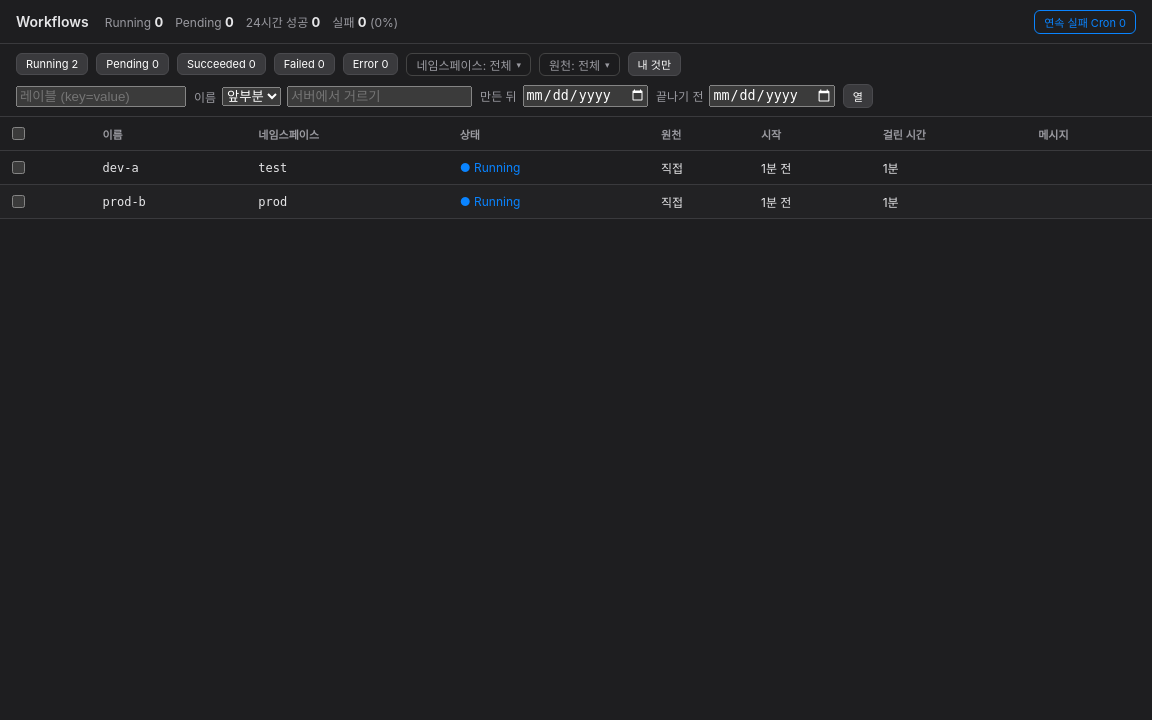
여러 개를 골라 일괄 동작하고 결과 표를 보이며, prod가 하나라도 있으면 선택 개수를 쳐야 한다
Click the checkbox named "dev-a 선택".
click(18, 168)  # box [12,161,25,174]
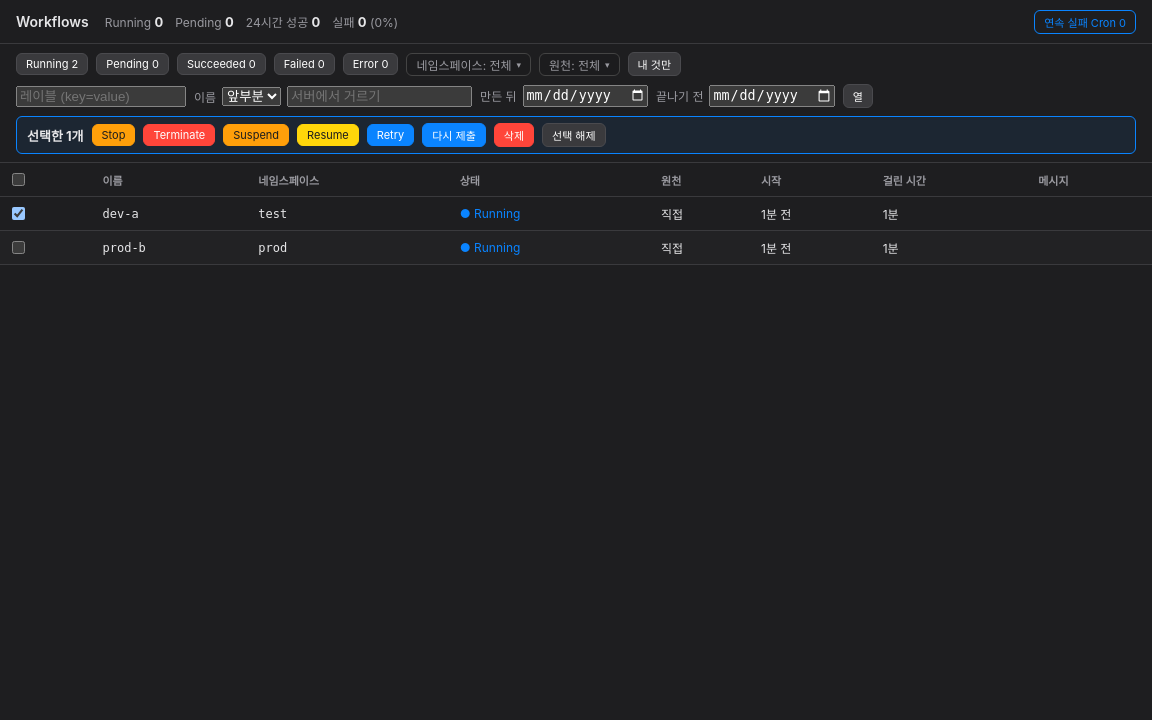
Click the checkbox named "prod-b 선택".
click(18, 248)  # box [12,241,25,254]
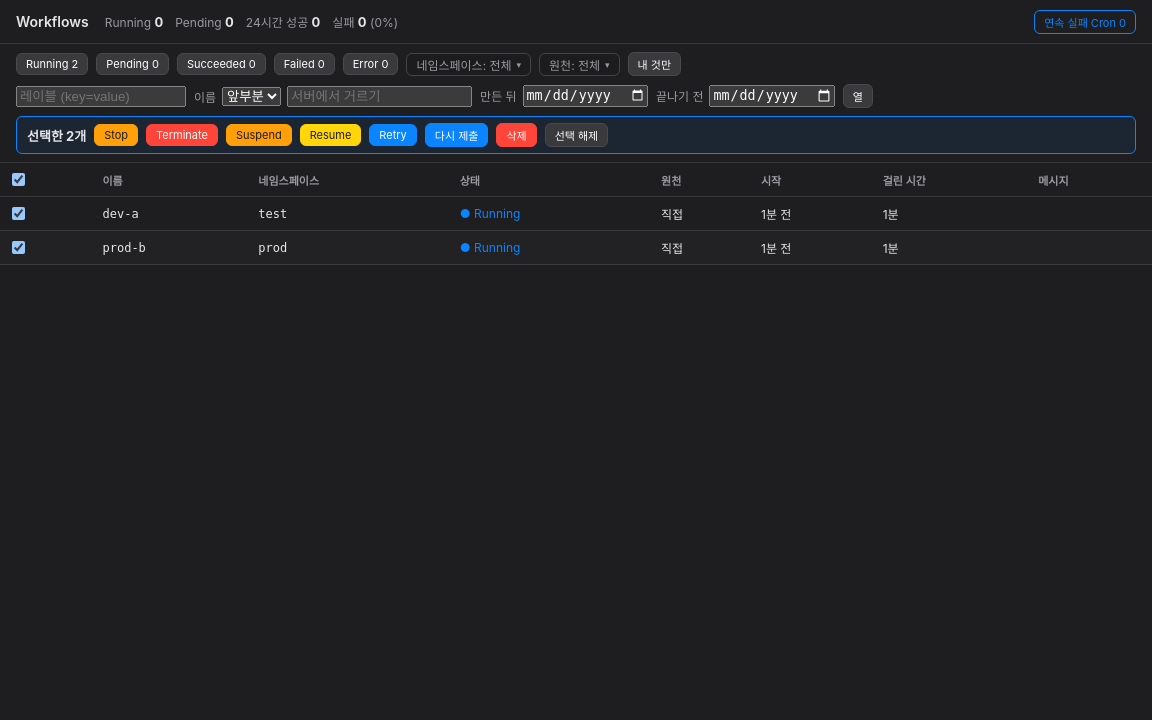
Click the button "Stop".
click(116, 135)  # box [94,124,138,146]
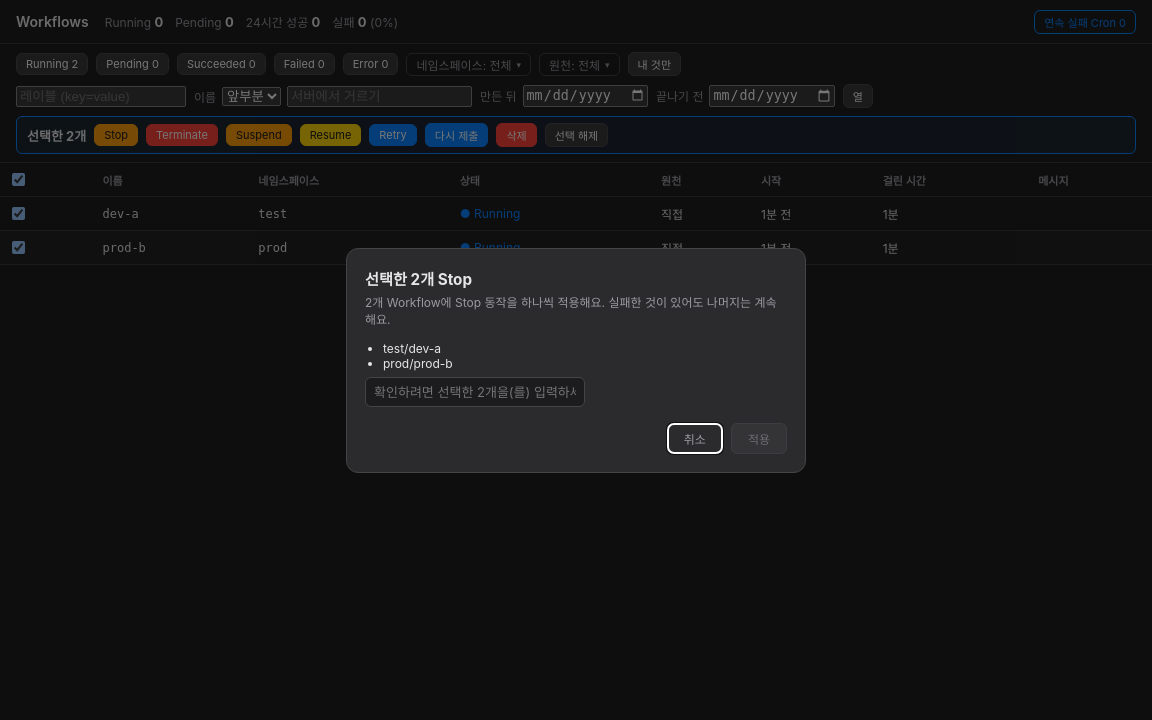
Result: the button "적용" is disabled at [731,422,787,454]
Type "선택한 2개" into the field labelled "확인하려면".
click(475, 392); type("선택한 2개")  # box [365,376,585,406]
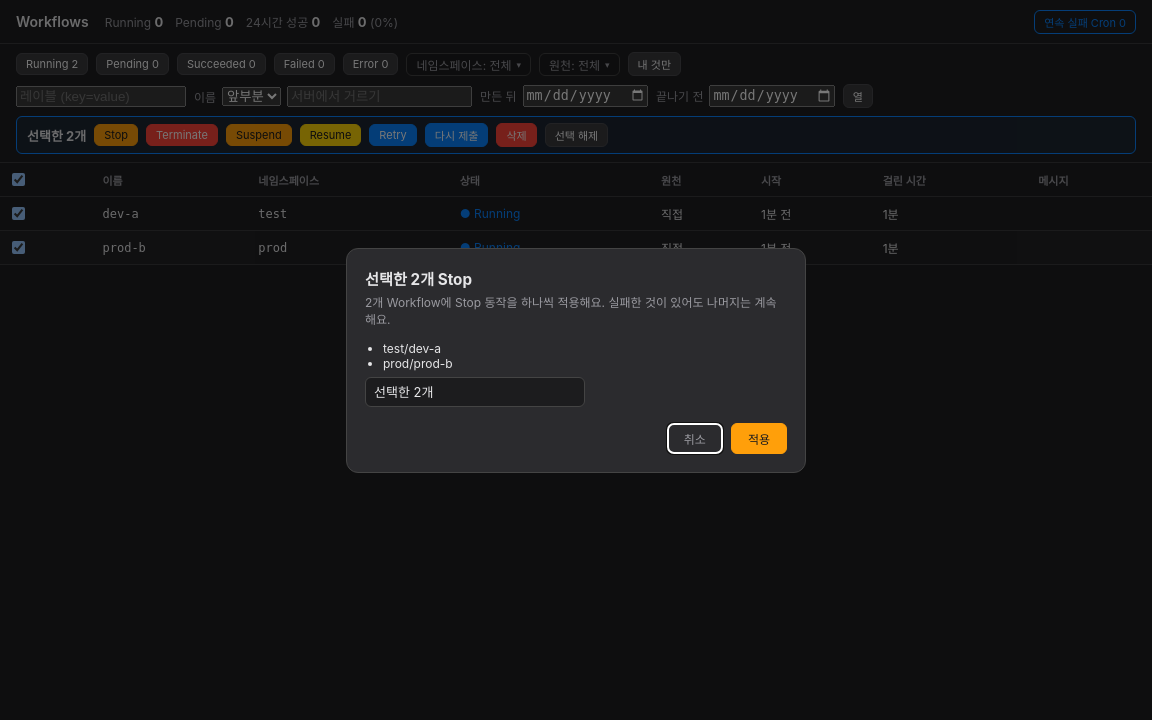
Click the button "적용".
click(759, 438)  # box [731,422,787,454]
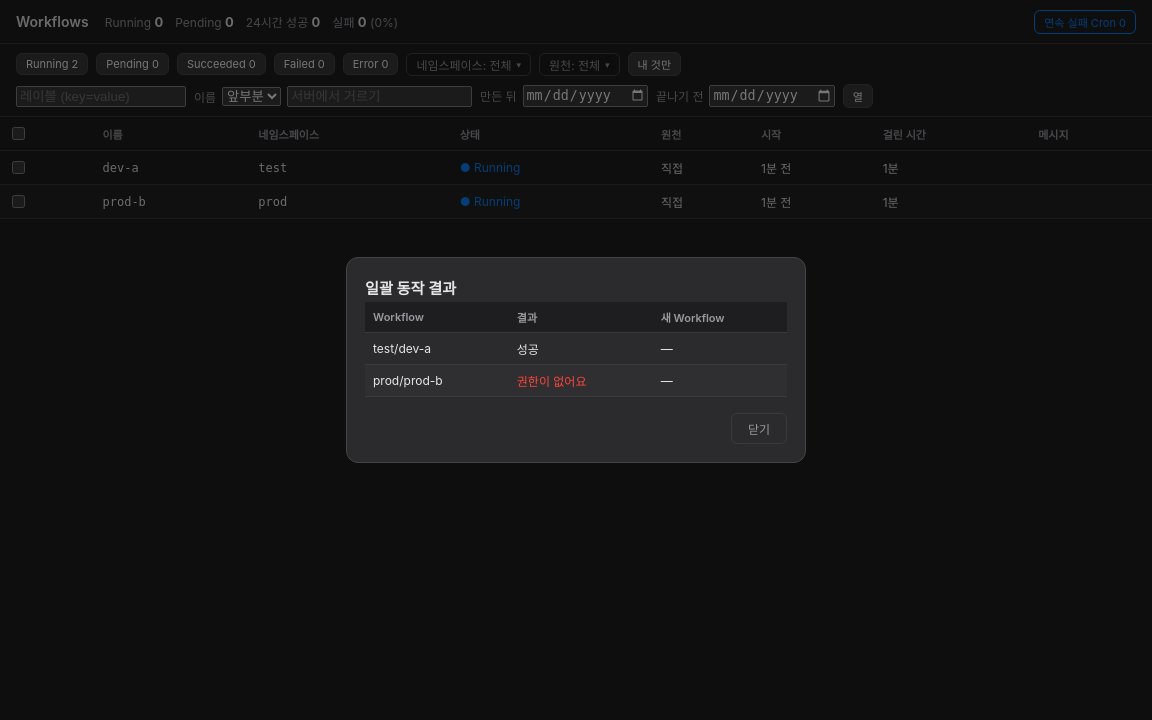
Result: the text "권한이 없어요" is shown at [509,364,653,396]
Result: the text "성공" is shown at [509,332,653,364]
